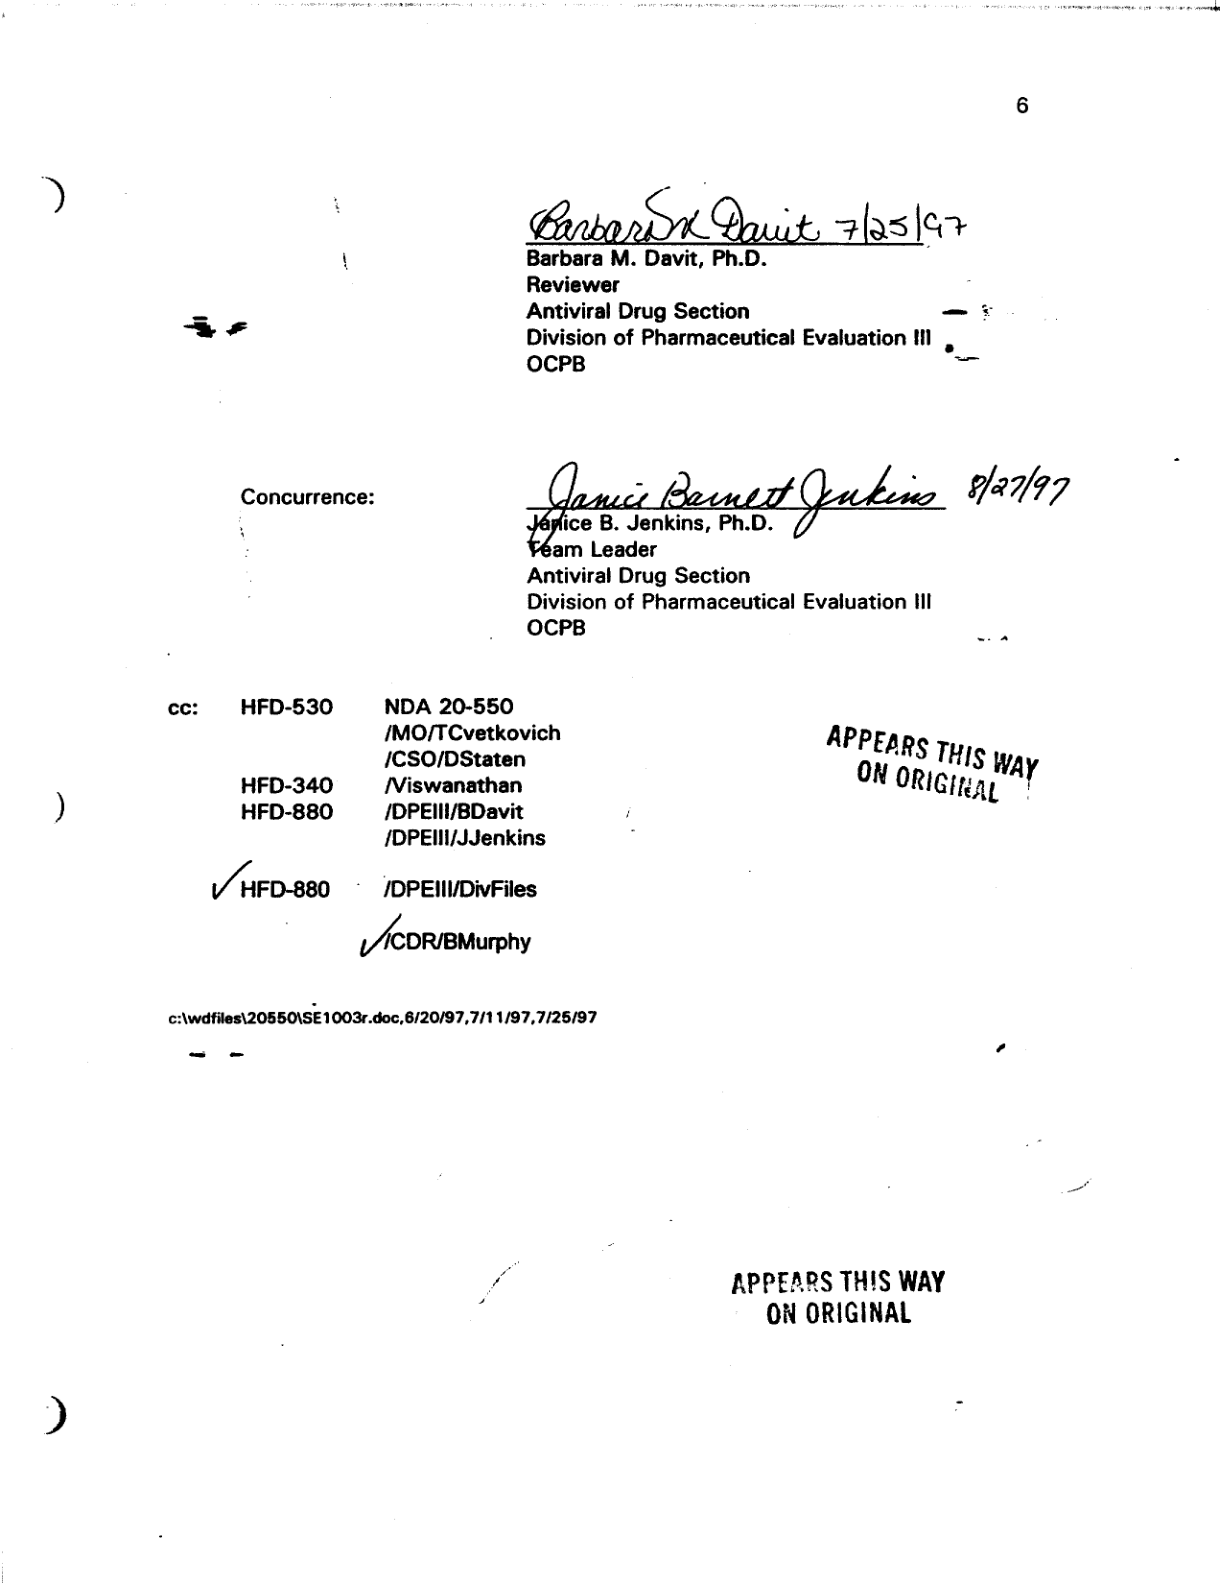nolines: (160, 694, 564, 955)
